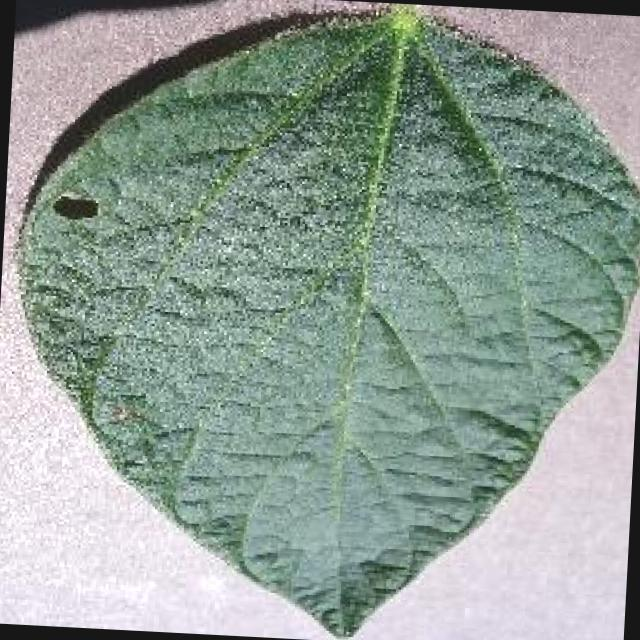healthy: (21, 9, 640, 637)
